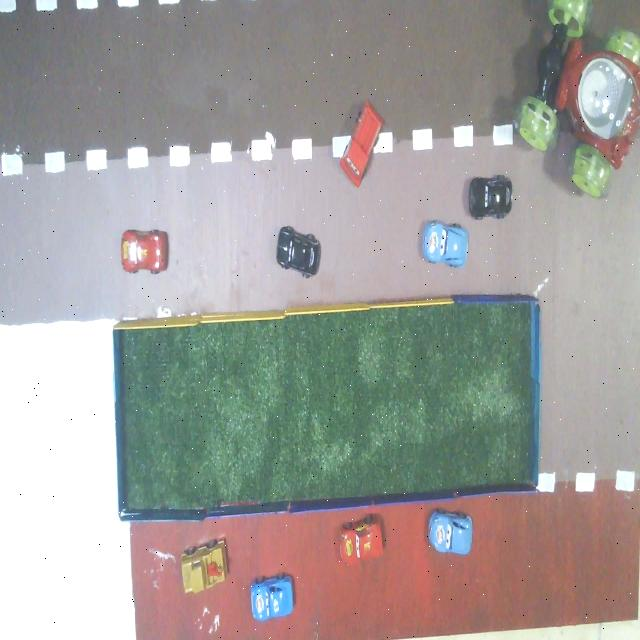small cars: (340, 101, 383, 186), (182, 540, 226, 593), (340, 515, 383, 565), (277, 227, 320, 277), (423, 221, 468, 267), (251, 574, 294, 621), (121, 230, 168, 273), (429, 510, 472, 555), (469, 175, 512, 219)
